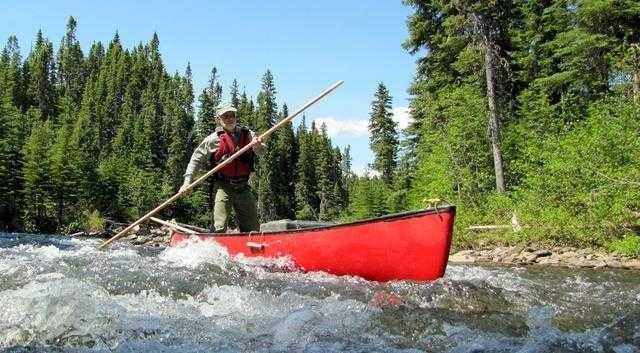kayak: (153, 205, 456, 284)
